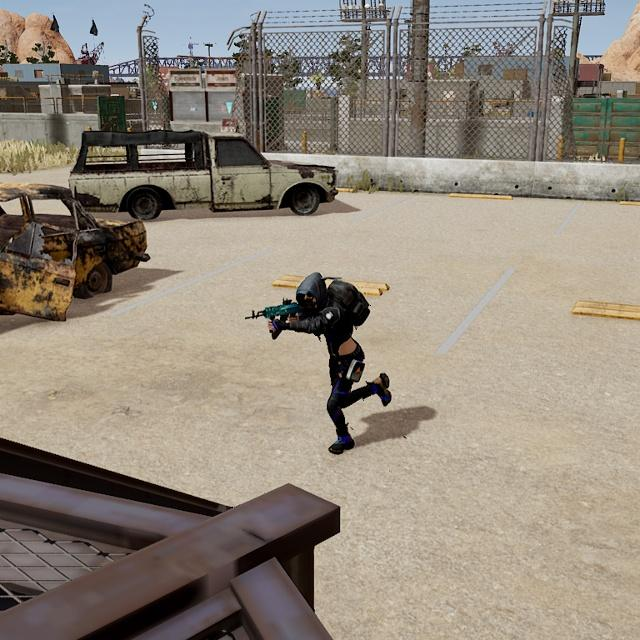head: (285, 266, 333, 315)
people: (261, 250, 405, 465)
